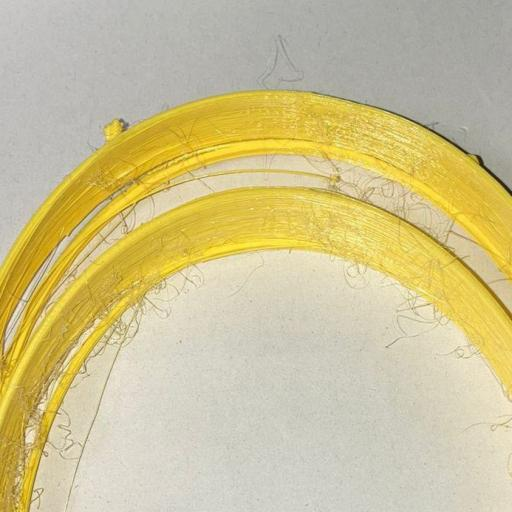stringing: (337, 165, 383, 202), (398, 291, 438, 331), (380, 176, 416, 218), (410, 198, 448, 232), (145, 276, 175, 318), (21, 385, 50, 426), (103, 314, 139, 346), (342, 255, 373, 290), (9, 432, 36, 468), (96, 175, 122, 198)
